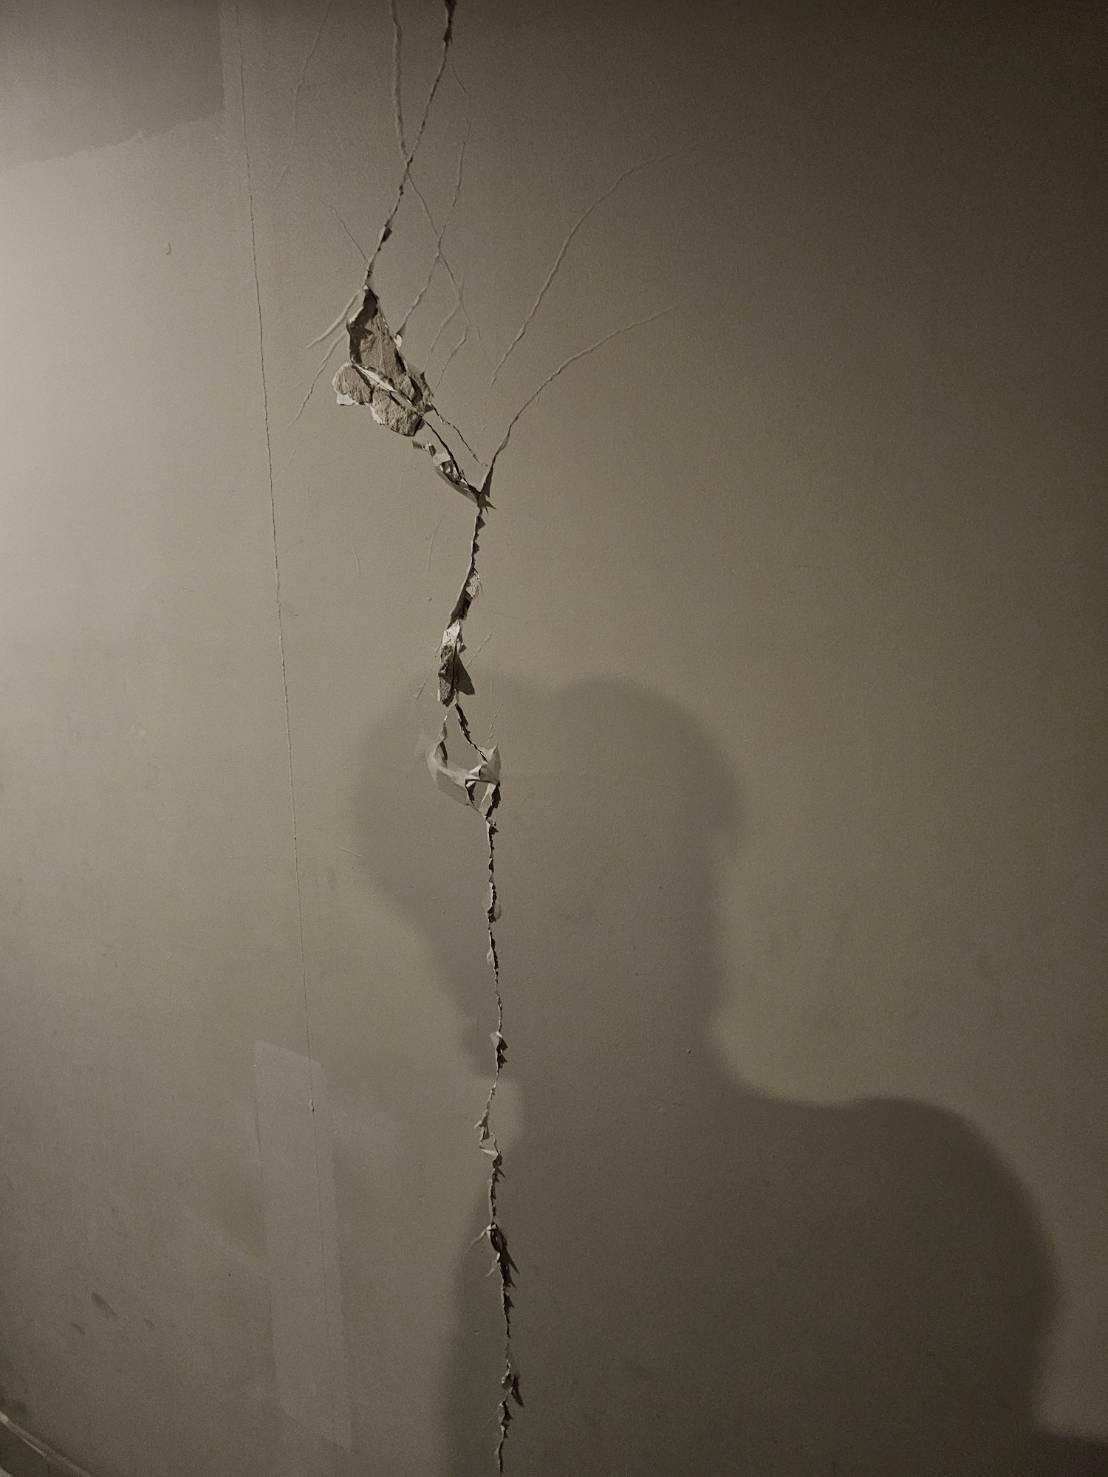Medium: (261, 168, 610, 1210)
